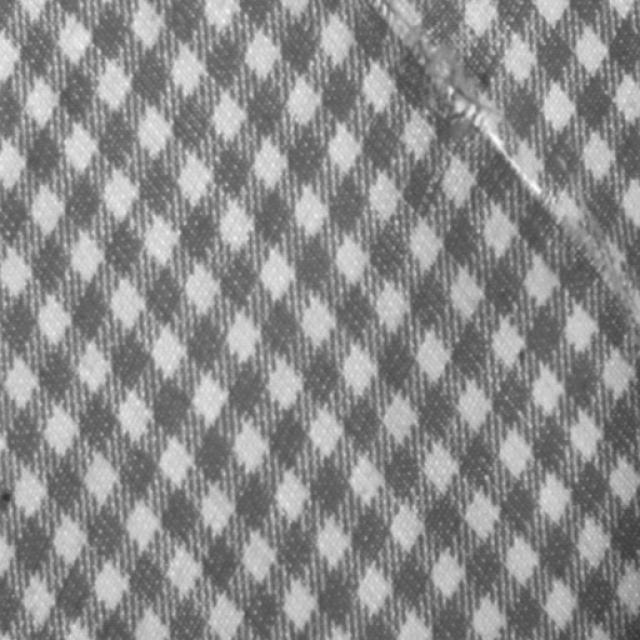Hole-Defect: (389, 36, 620, 274)
